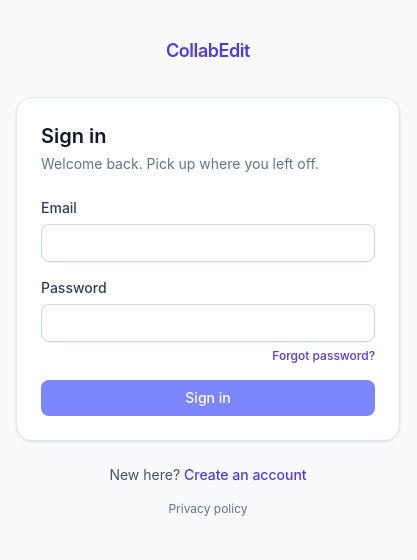
Test: authentication flow › tells the visitor how long to wait when rate limited
Type "ada@example.com" into the field labelled "Email" at x=208, y=243, box [41,224,375,262]
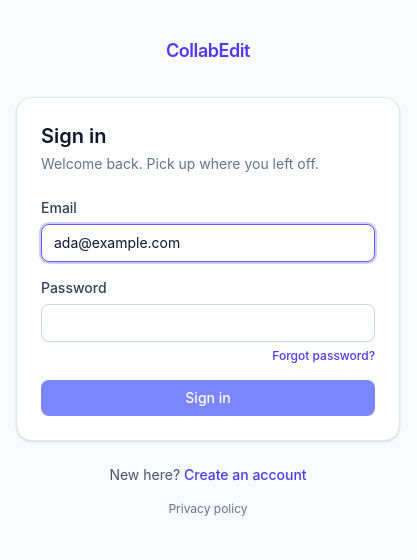
Type "guess guess" into the password field labelled "Password" at x=208, y=323, box [41,304,375,342]
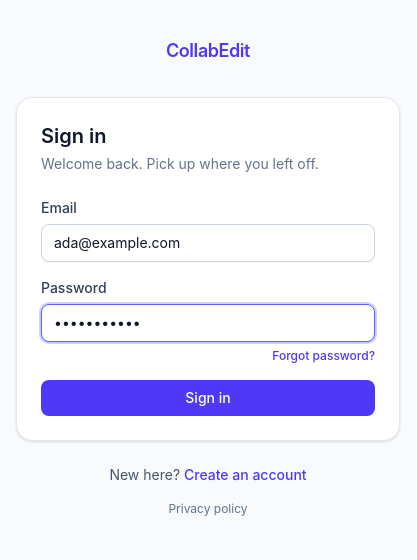
Click the button "Sign in" at x=208, y=398, box [41,380,375,416]
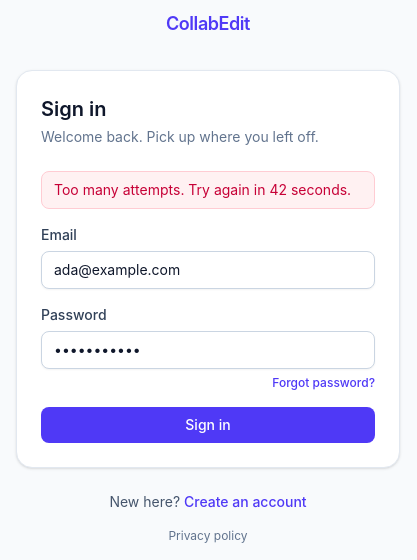
Result: the message shows "Try again in 42 seconds." at [54,181,351,198]
